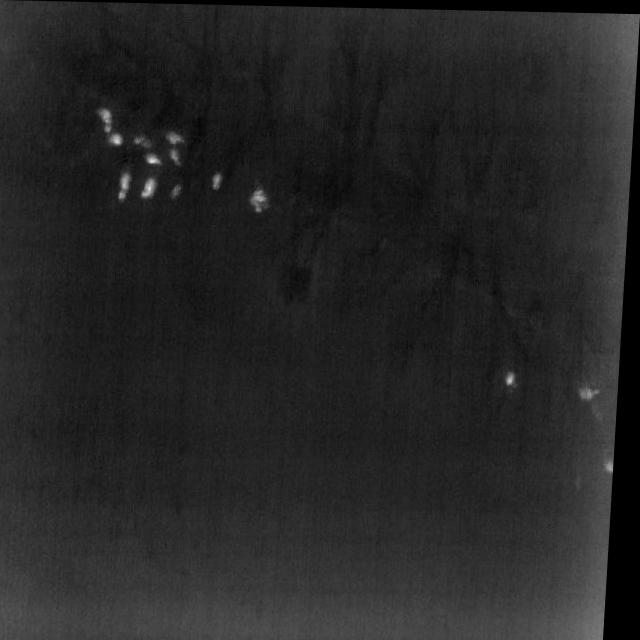deer: (252, 186, 273, 212), (96, 108, 115, 132), (121, 172, 135, 199), (143, 177, 160, 197), (584, 384, 606, 399), (135, 134, 155, 147), (167, 132, 187, 144), (170, 182, 184, 199), (170, 148, 184, 165), (107, 132, 125, 145), (145, 153, 166, 164), (214, 171, 225, 190), (509, 369, 521, 386), (610, 454, 619, 472)
